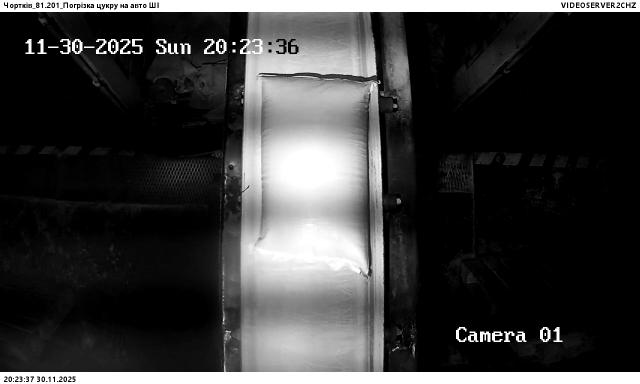bag: (255, 73, 376, 277)
